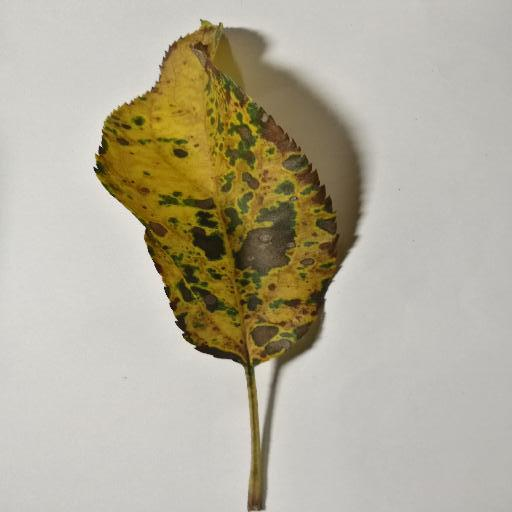Brown_Spot: (112, 108, 323, 343)
